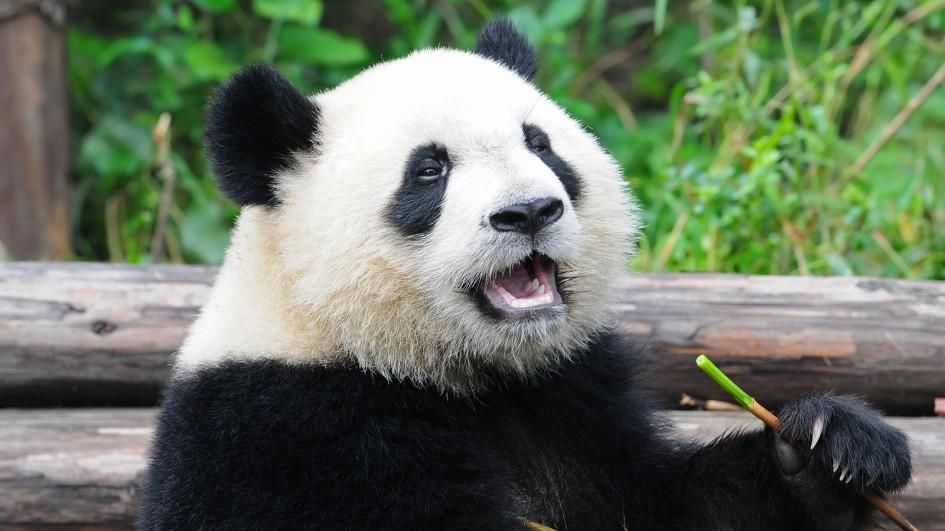panda: (161, 17, 913, 531)
